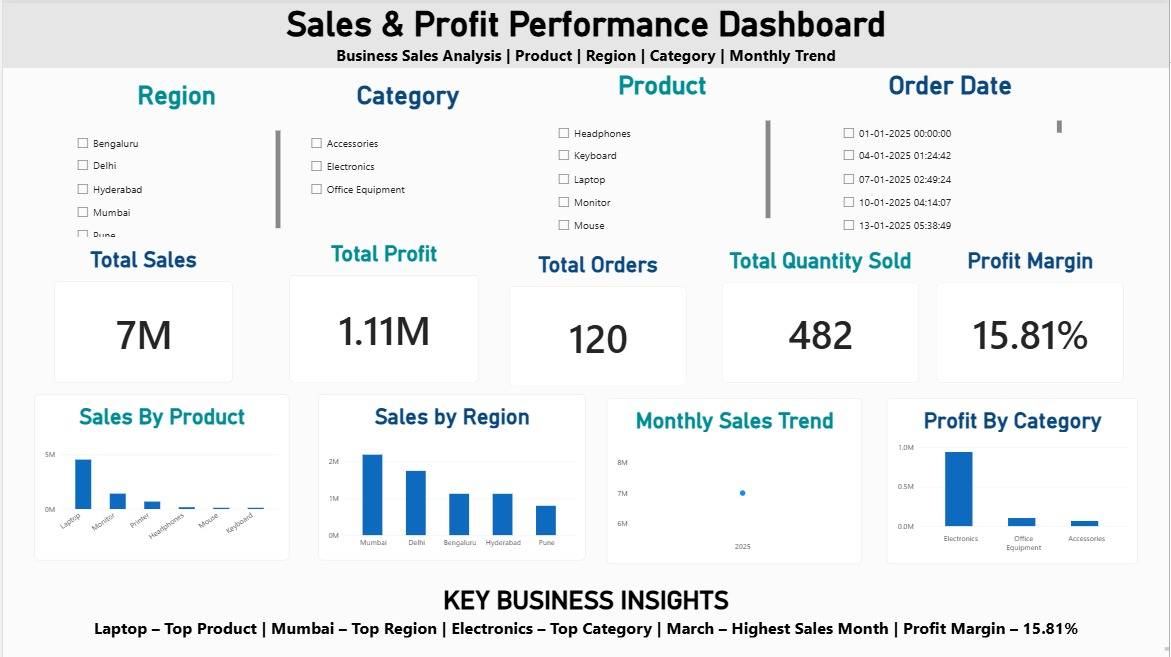

The dashboard page shown, as its layout file describes it:
{"tool":"powerbi","page":{"name":"Page 1","canvas":[1920,1080],"ordinal":0},"visuals":[{"type":"cardVisual","title":"Total Sales ","fields":{"Data":["Sum(sales_data.Sales)"]},"box":[84.4,401.4,294.3,224.4],"z":0},{"type":"cardVisual","title":"Total Profit ","fields":{"Data":["Sum(sales_data.Profit)"]},"box":[471.4,391.1,312.9,234.6],"z":1},{"type":"cardVisual","title":"Total Orders ","fields":{"Data":["CountNonNull(sales_data.Order_ID)"]},"box":[833.6,409.6,292.3,222.3],"z":2},{"type":"cardVisual","title":"Total Quantity Sold ","fields":{"Data":["Sum(sales_data.Quantity)"]},"box":[1183.5,403.4,325.2,222.3],"z":3},{"type":"cardVisual","title":"Profit Margin ","fields":{"Data":["sales_data.Profit Margin"]},"box":[1537.6,403.4,308.7,222.3],"z":4},{"type":"clusteredColumnChart","title":"Sales By Product ","fields":{"Category":["sales_data.Product"],"Y":["Sum(sales_data.Sales)"]},"box":[51.5,644.3,419.9,273.8],"z":5},{"type":"clusteredColumnChart","title":"Sales by Region","fields":{"Category":["sales_data.Region"],"Y":["Sum(sales_data.Sales)"]},"box":[518.7,644.3,440.5,273.8],"z":6},{"type":"lineChart","title":"Monthly Sales Trend ","fields":{"Category":["sales_data.Order_Date.Variation.Date Hierarchy.Year","sales_data.Order_Date.Variation.Date Hierarchy.Month"],"Y":["Sum(sales_data.Sales)"]},"box":[994.2,650.4,419.9,273.8],"z":7},{"type":"clusteredColumnChart","title":"Profit By Category ","fields":{"Category":["sales_data.Category"],"Y":["Sum(sales_data.Profit)"]},"box":[1455.2,650.4,413.7,273.8],"z":8},{"type":"slicer","title":"Region ","fields":{"Values":["sales_data.Region"]},"box":[115.3,127.6,341.7,257.3],"z":9},{"type":"slicer","title":"Category","fields":{"Values":["sales_data.Category"]},"box":[500.2,127.6,333.4,257.3],"z":10},{"type":"slicer","title":"Product","fields":{"Values":["sales_data.Product"]},"box":[907.7,111.1,356.1,273.8],"z":11},{"type":"slicer","title":"Order Date","fields":{"Values":["sales_data.Order_Date"]},"box":[1377,111.1,366.4,271.7],"z":12},{"type":"textbox","title":"Sales & Profit Performance Dashboard","box":[0,0,1920.4,107],"z":13},{"type":"textbox","title":"KEY BUSINESS INSIGHTS","box":[0,959.2,1920.4,107],"z":14}]}

Visuals, with their boxes in screenshot pixels (x1, y1, x2, y2), scaled from the page's 1920x1080 canvas onto the 1171x657 screenshot:
"Total Sales " cardVisual: (51,244,231,381)
"Total Profit " cardVisual: (288,238,478,381)
"Total Orders " cardVisual: (508,249,687,384)
"Total Quantity Sold " cardVisual: (722,245,920,381)
"Profit Margin " cardVisual: (938,245,1126,381)
"Sales By Product " clusteredColumnChart: (31,392,288,559)
"Sales by Region" clusteredColumnChart: (316,392,585,559)
"Monthly Sales Trend " lineChart: (606,396,862,562)
"Profit By Category " clusteredColumnChart: (888,396,1140,562)
"Region " slicer: (70,78,279,234)
"Category" slicer: (305,78,508,234)
"Product" slicer: (554,68,771,234)
"Order Date" slicer: (840,68,1063,233)
"Sales & Profit Performance Dashboard" textbox: (0,0,1170,65)
"KEY BUSINESS INSIGHTS" textbox: (0,584,1170,649)
